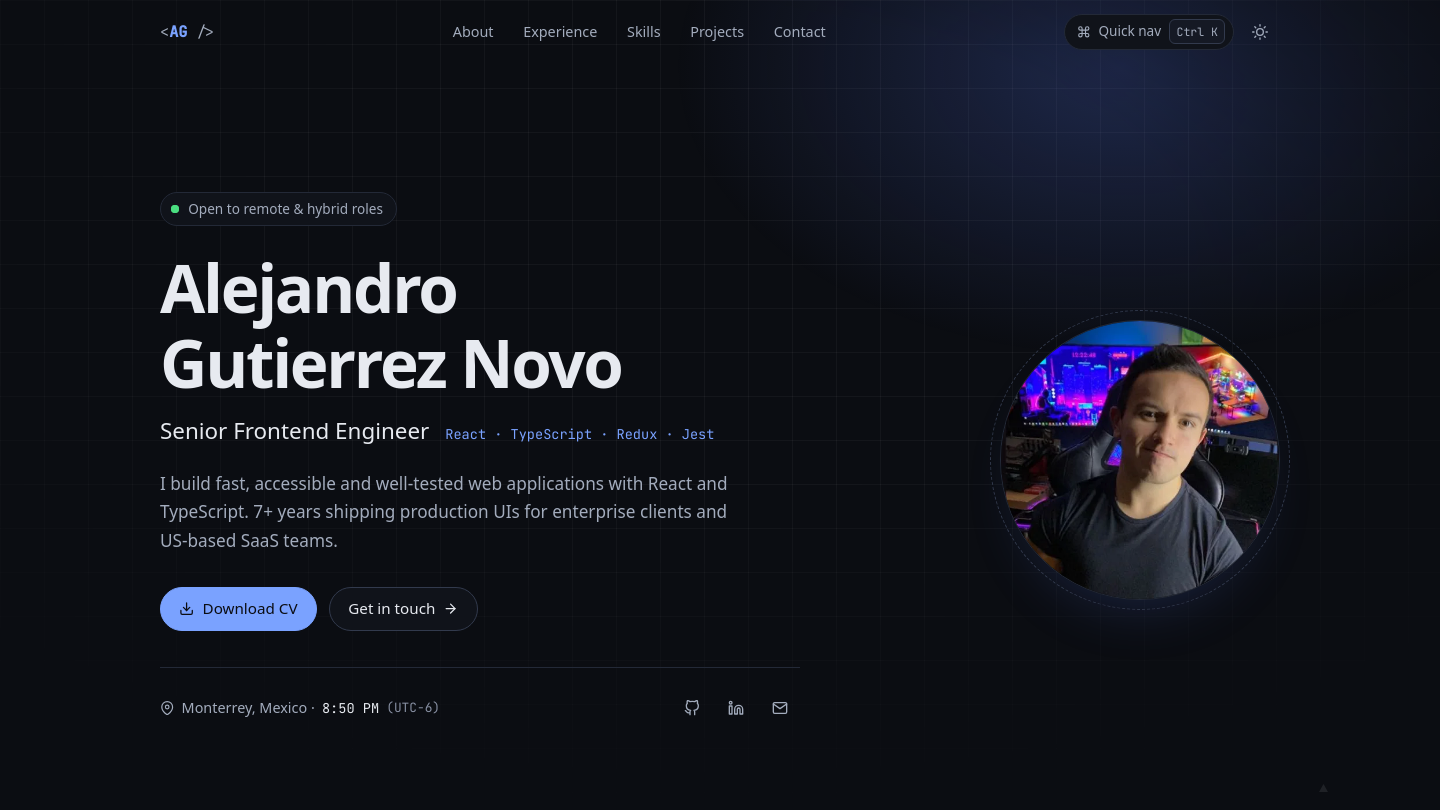
it: CommandPalette › moves the active option with the arrow keys and runs it with Enter
Type keys "{Control>}k{/Control}"
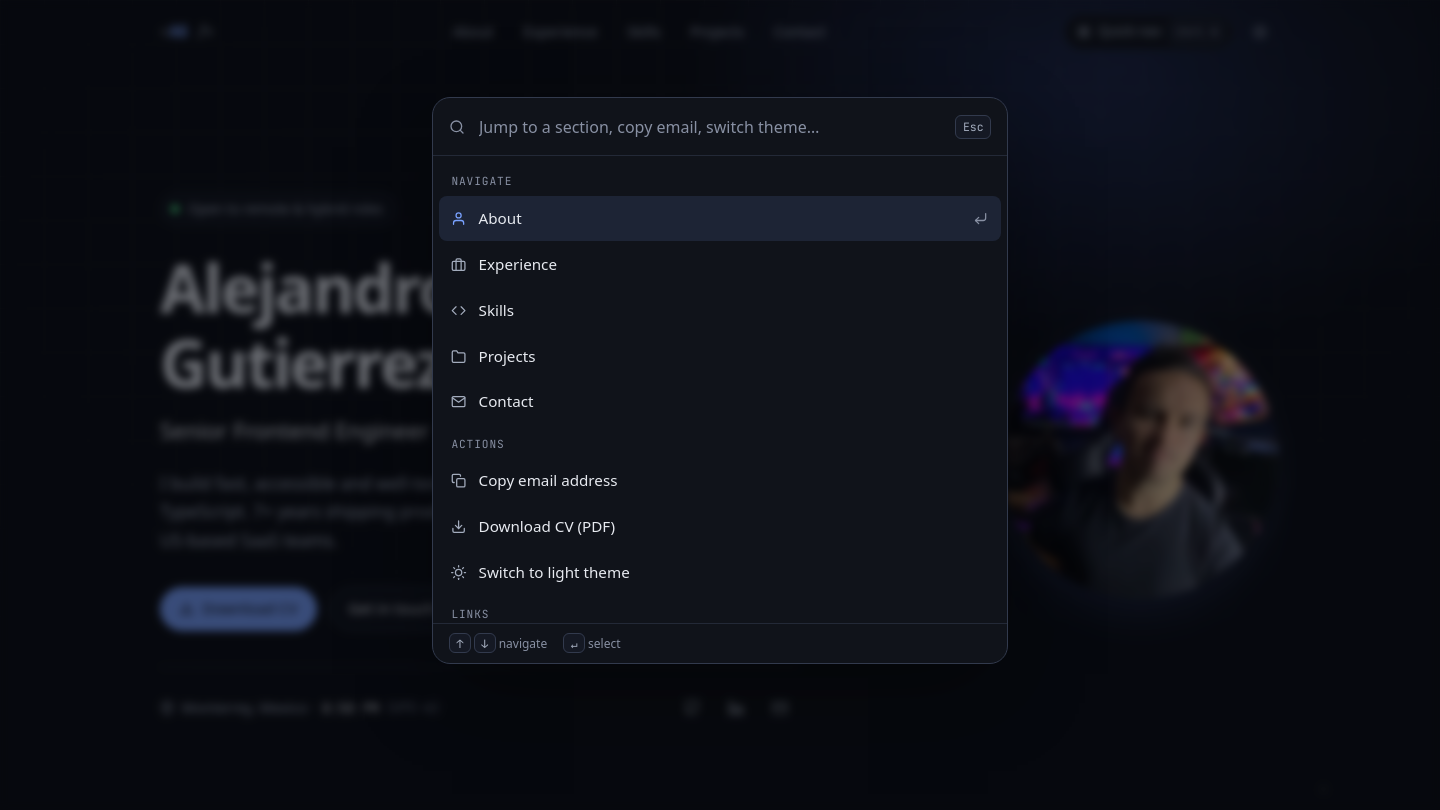
Press Arrowdown
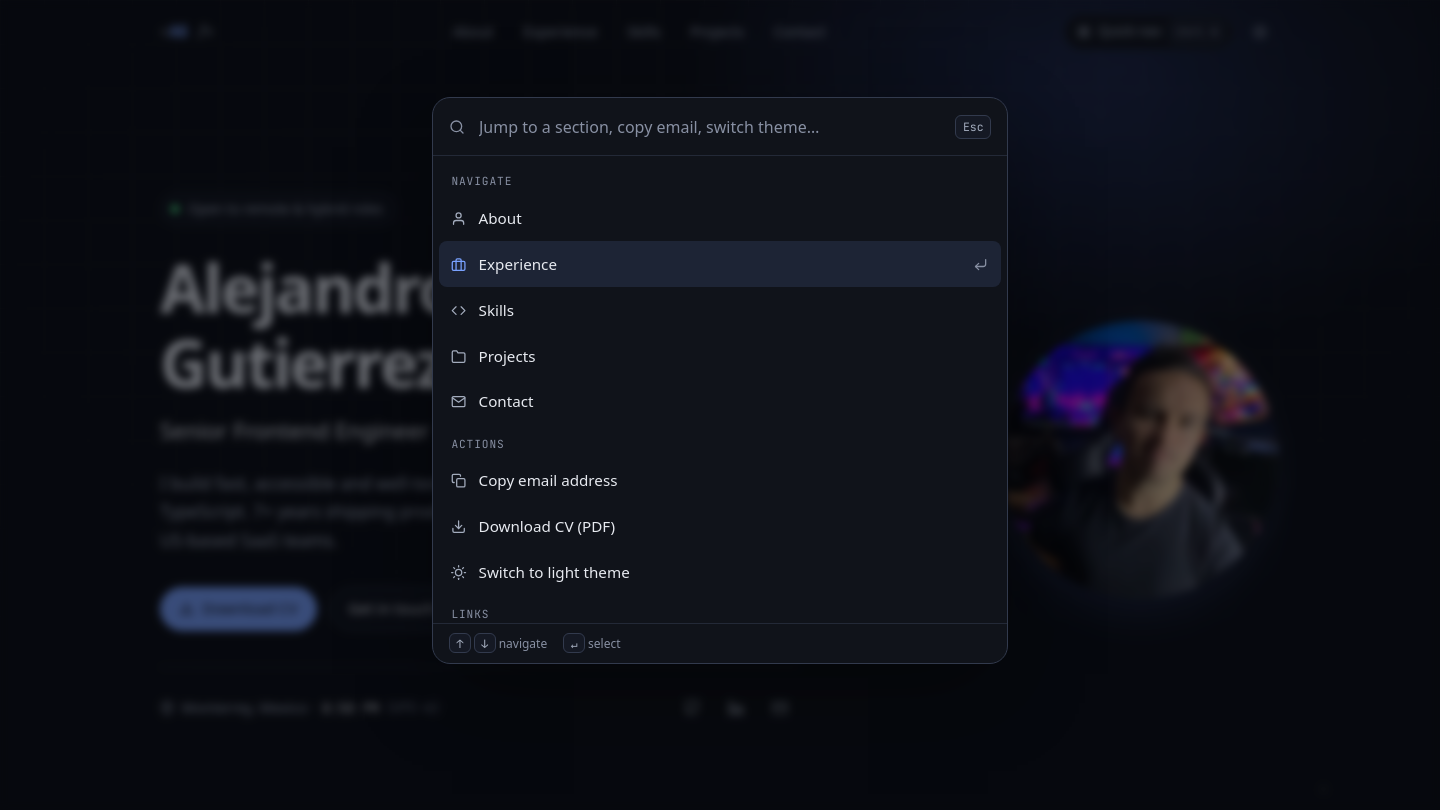
Expected: the option "Experience" is selected, top-left (439, 242), bottom-right (1001, 287)
Type "light" into the dropdown.
click(710, 127); type("light")  # box top-left (477, 113), bottom-right (944, 141)
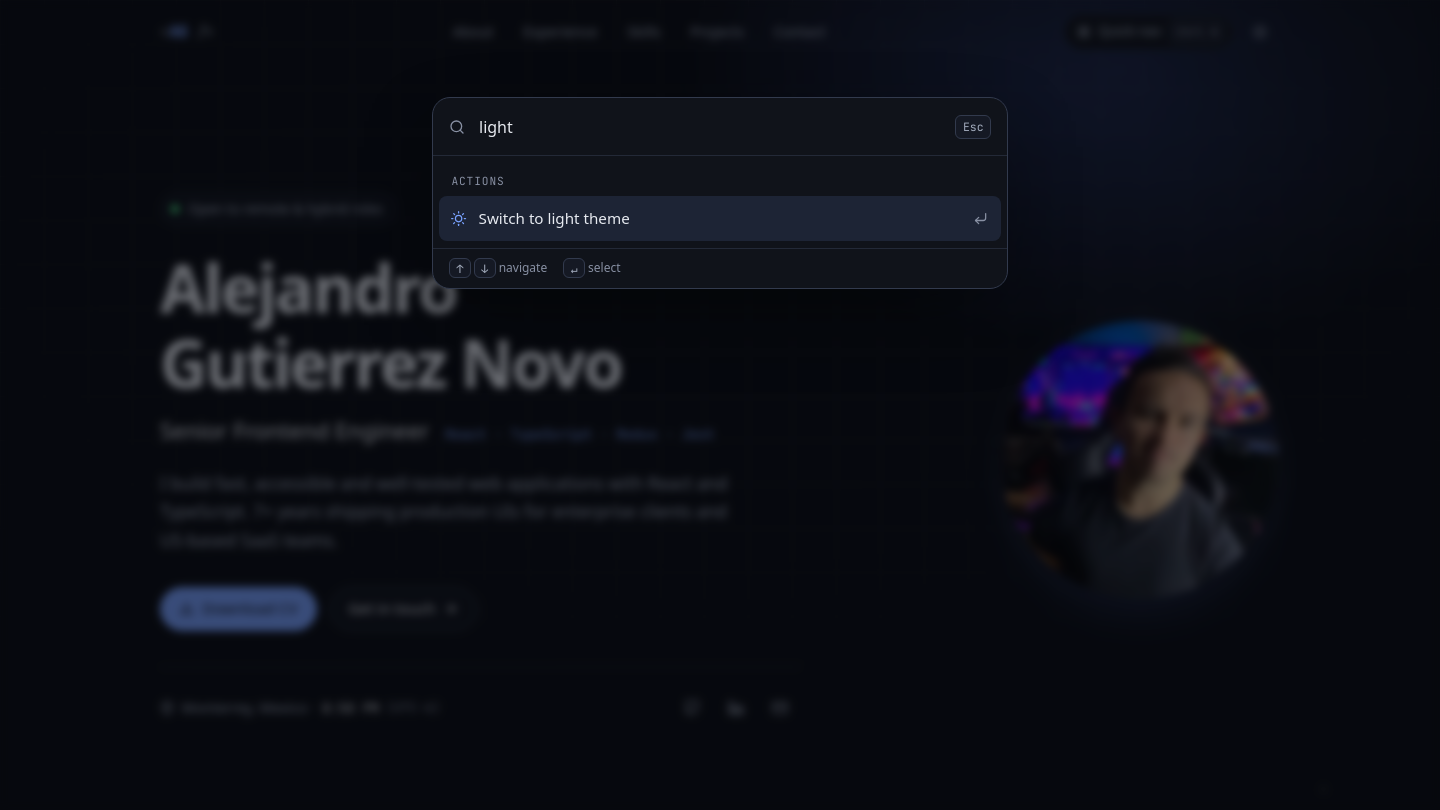
Press Enter
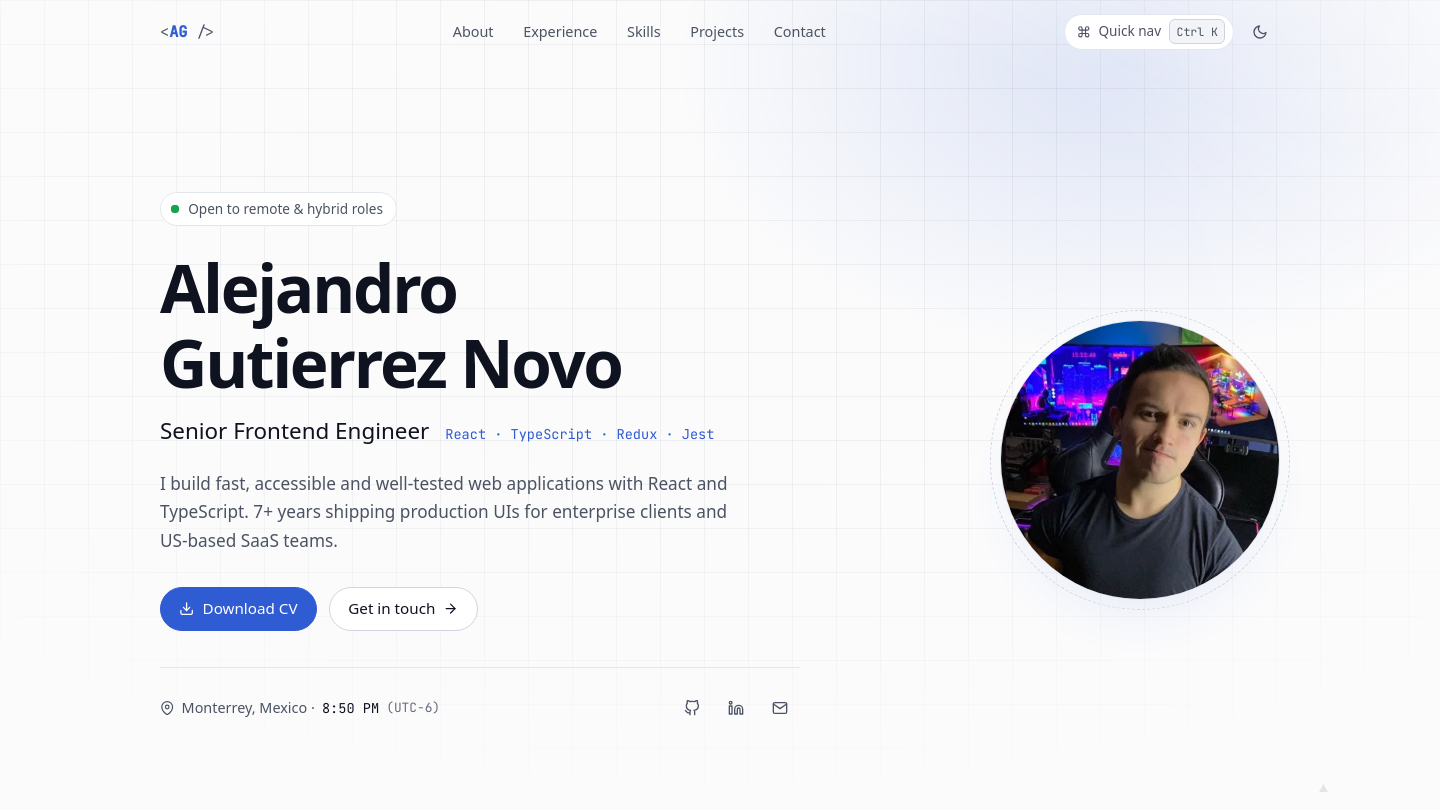
Expected: the dialog is gone
